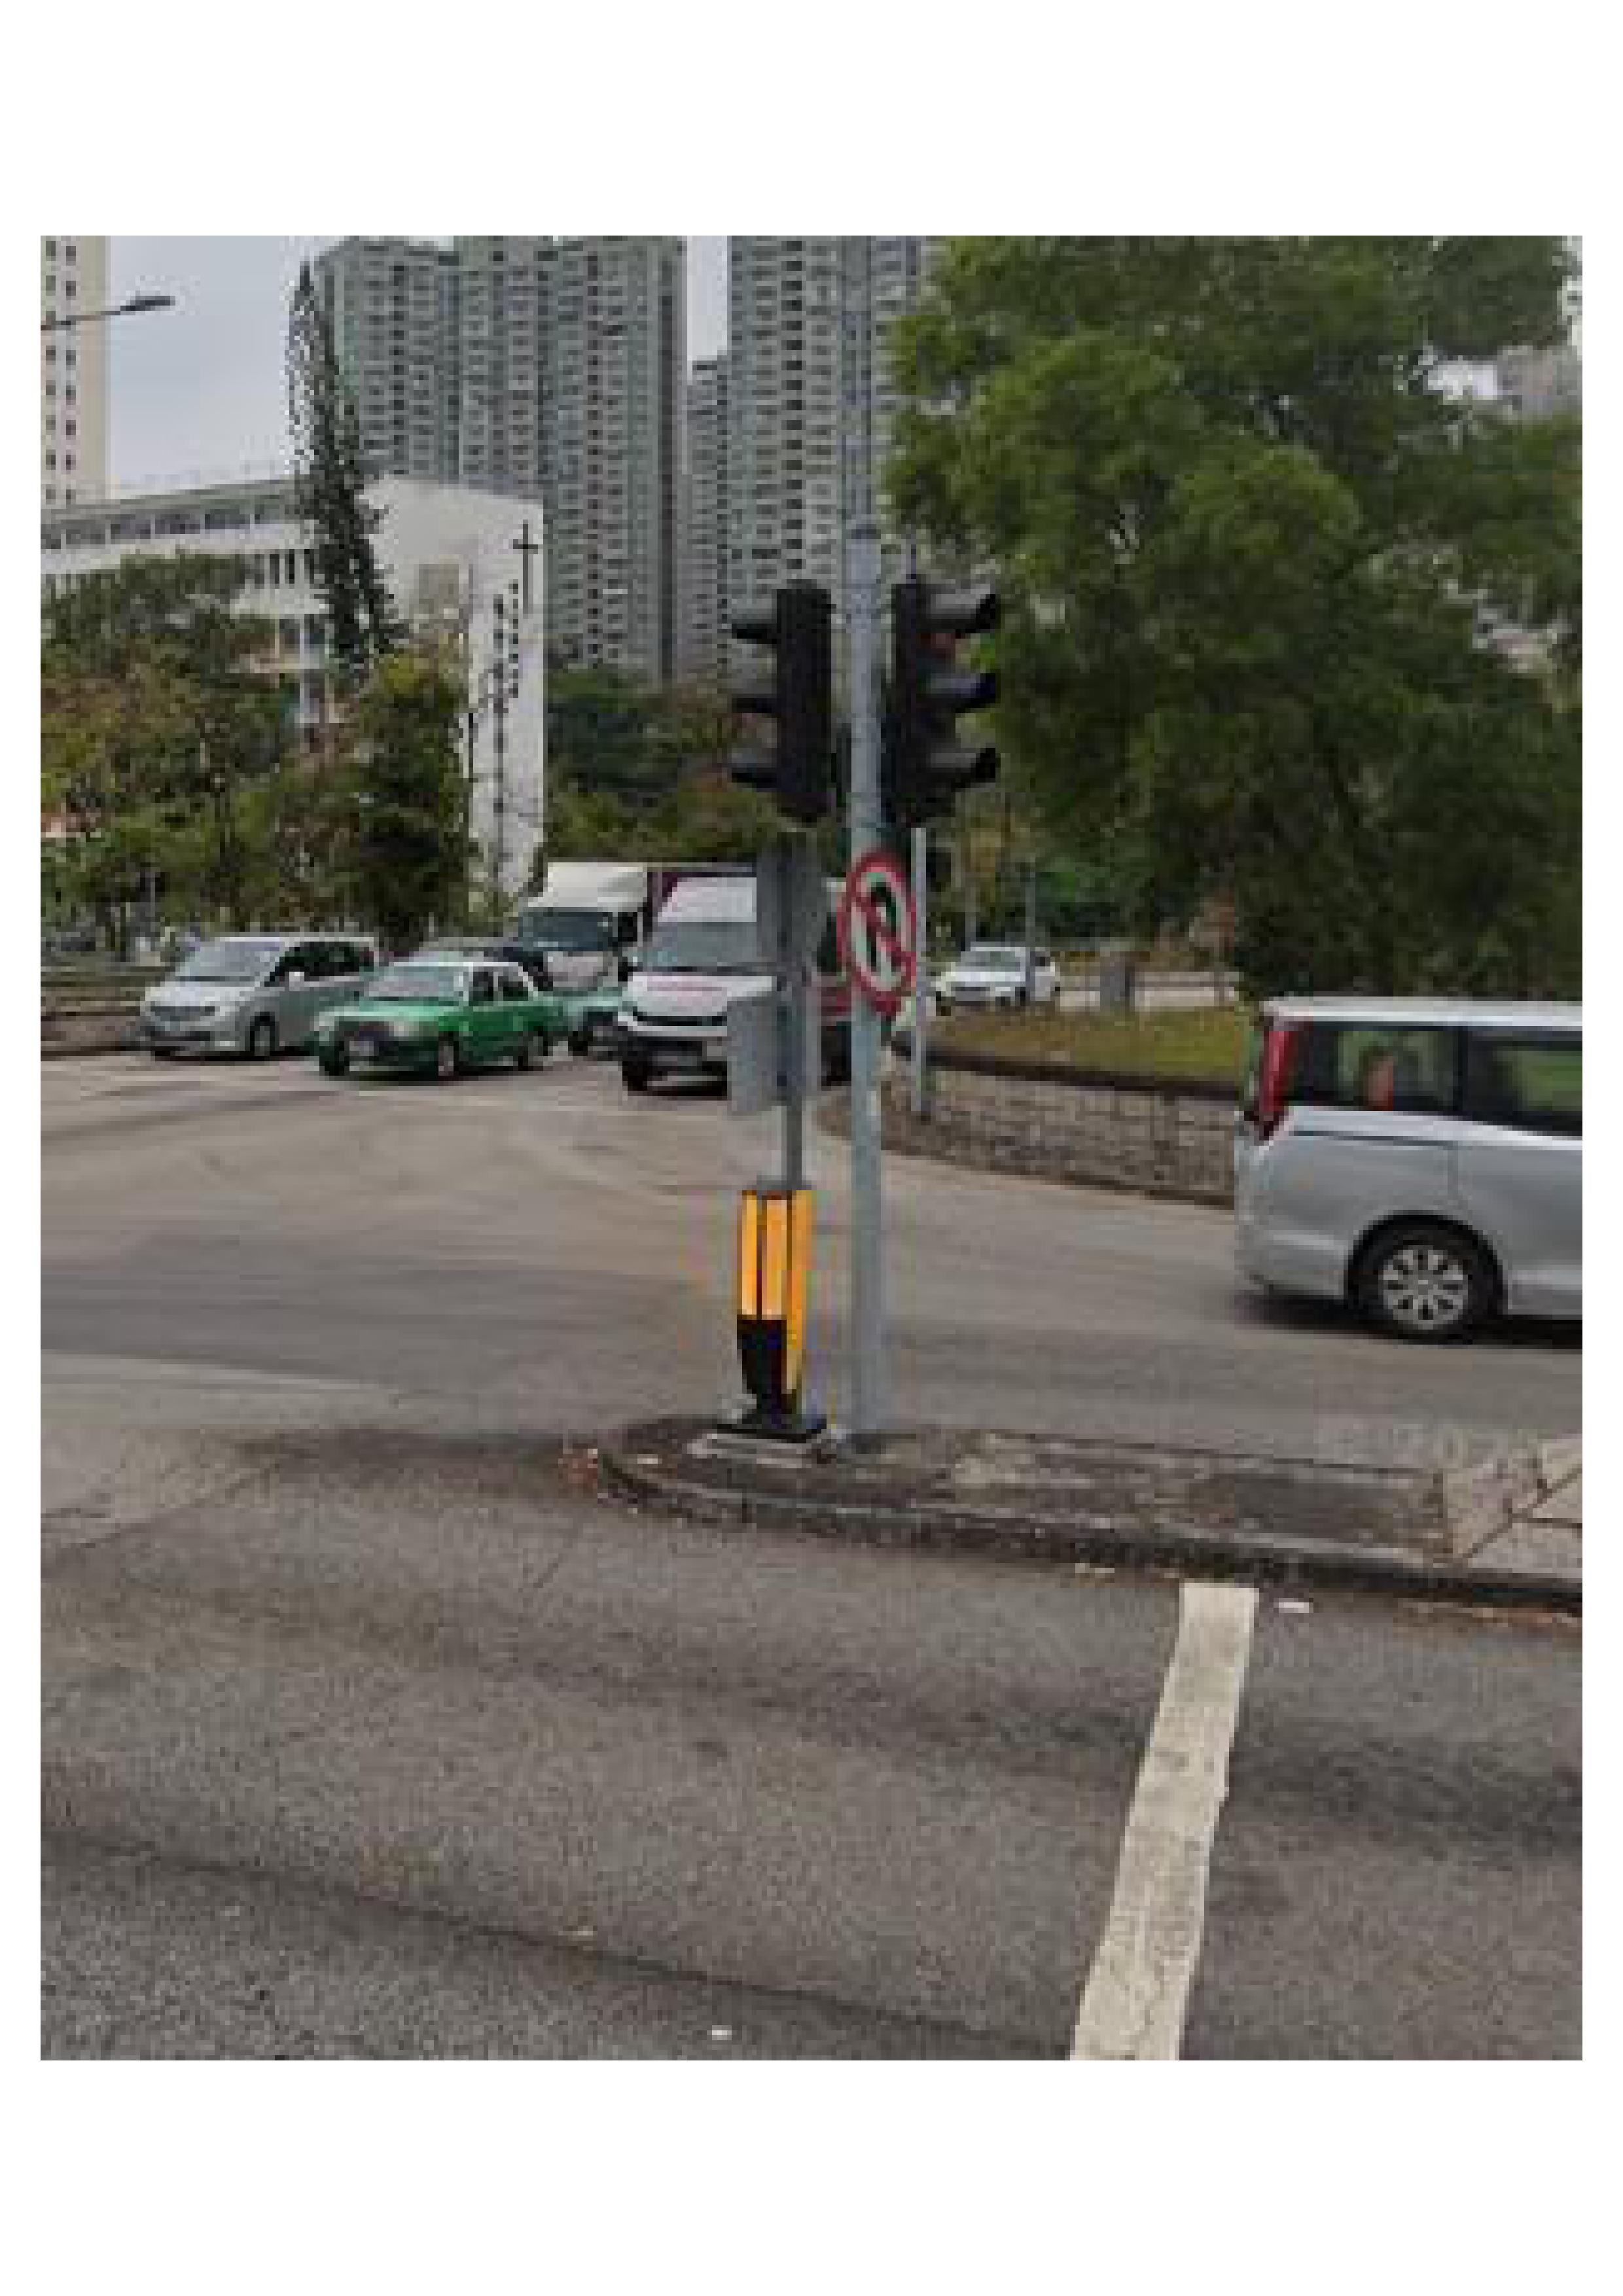No Uturn: (829, 855, 933, 1011)
